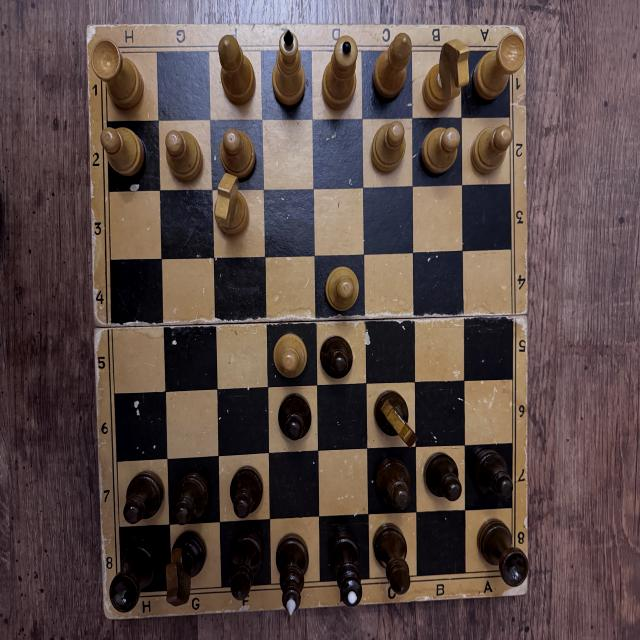black-bishop: (371, 524, 414, 596), (228, 529, 264, 600)
black-king: (274, 534, 310, 617)
black-knight: (164, 532, 206, 608), (372, 388, 418, 448)
black-pawn: (472, 448, 514, 502), (124, 472, 164, 526), (374, 457, 413, 512), (423, 451, 463, 504), (230, 464, 264, 520), (173, 474, 209, 526), (277, 393, 311, 440), (320, 335, 353, 380)
black-queen: (326, 526, 366, 608)
black-rook: (108, 534, 160, 613), (478, 517, 529, 589)
white-bishop: (214, 34, 258, 108), (371, 32, 413, 104)
white-king: (271, 27, 307, 108)
white-knight: (422, 39, 470, 113), (212, 174, 250, 237)
white-pawn: (100, 126, 146, 178), (471, 124, 512, 176), (164, 128, 203, 180), (421, 124, 459, 176), (219, 128, 256, 180), (324, 264, 359, 314), (372, 121, 406, 172), (272, 332, 308, 380)
white-queen: (321, 34, 359, 112)
white-rook: (91, 39, 144, 111), (474, 32, 525, 102)
